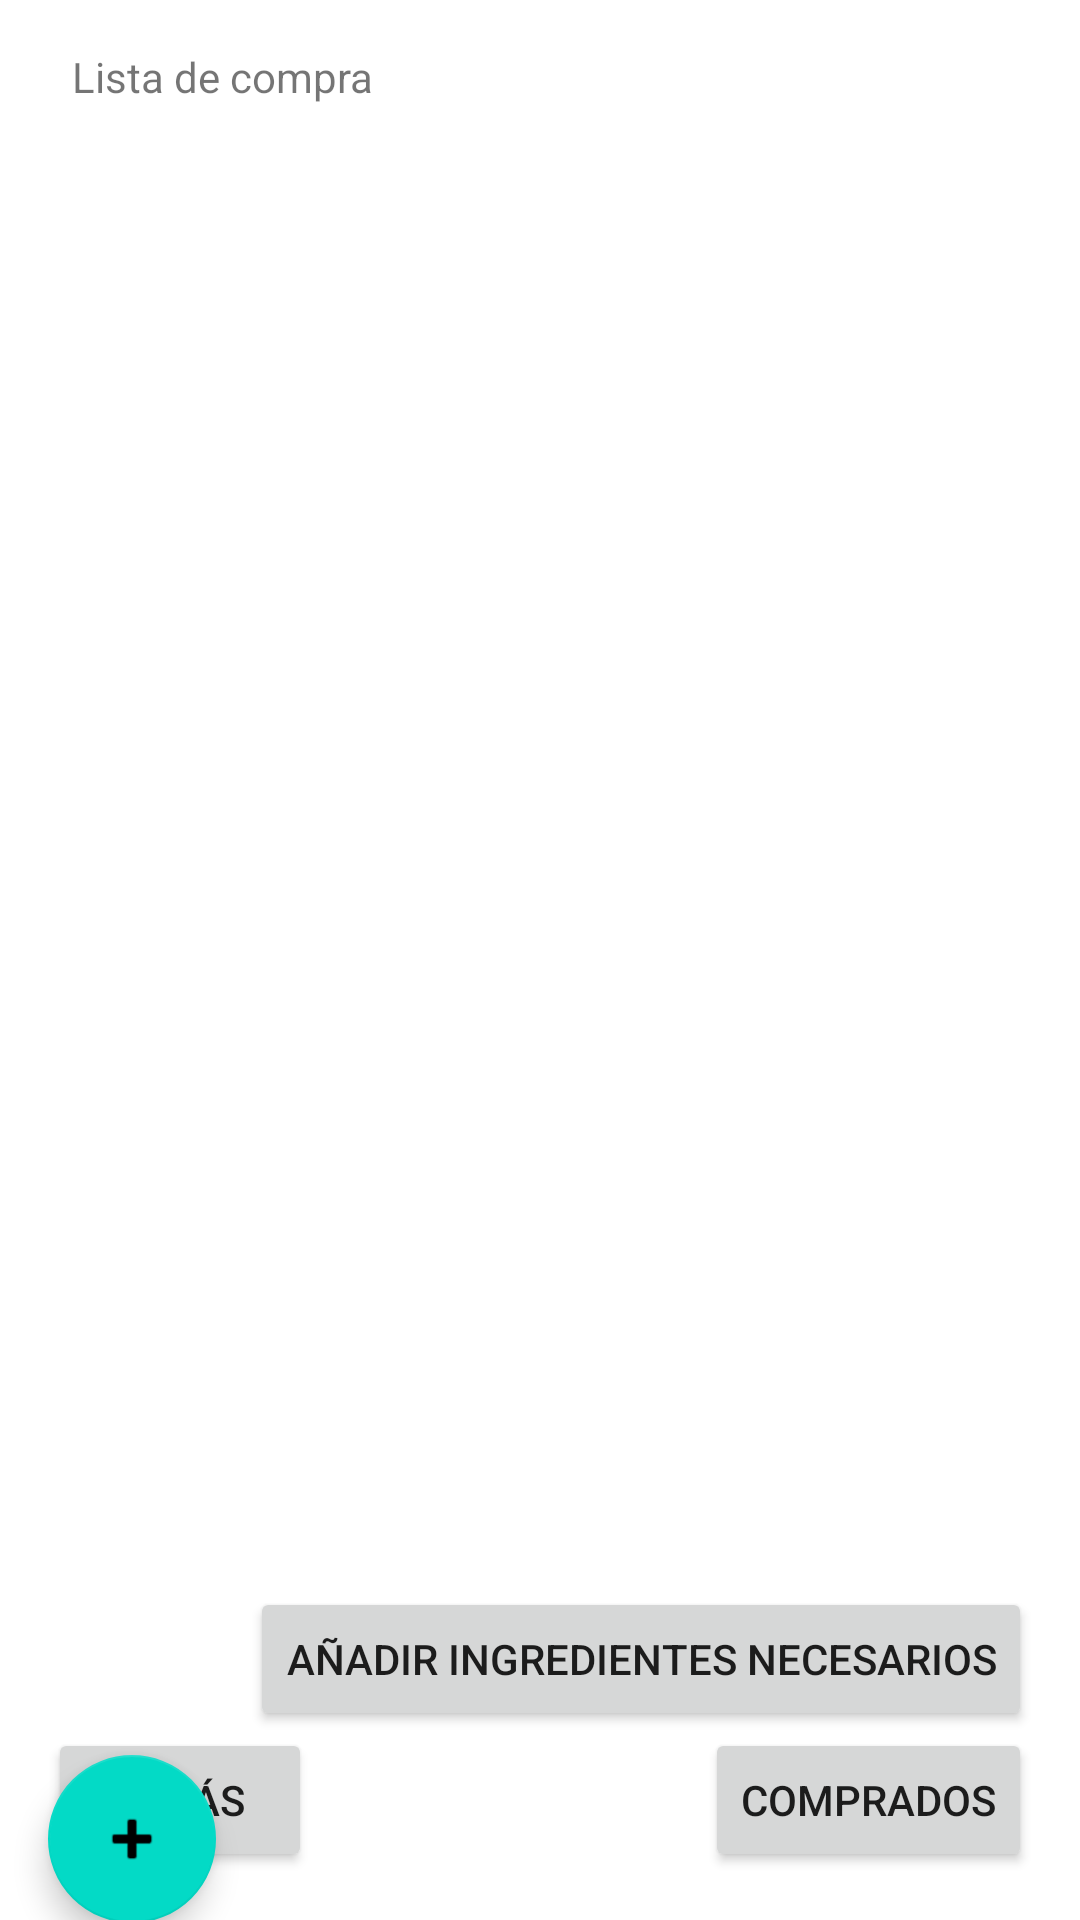

Named icons in this screenshot (1080*1920) and their centers, (x,y):
plus button: (132,1837)
